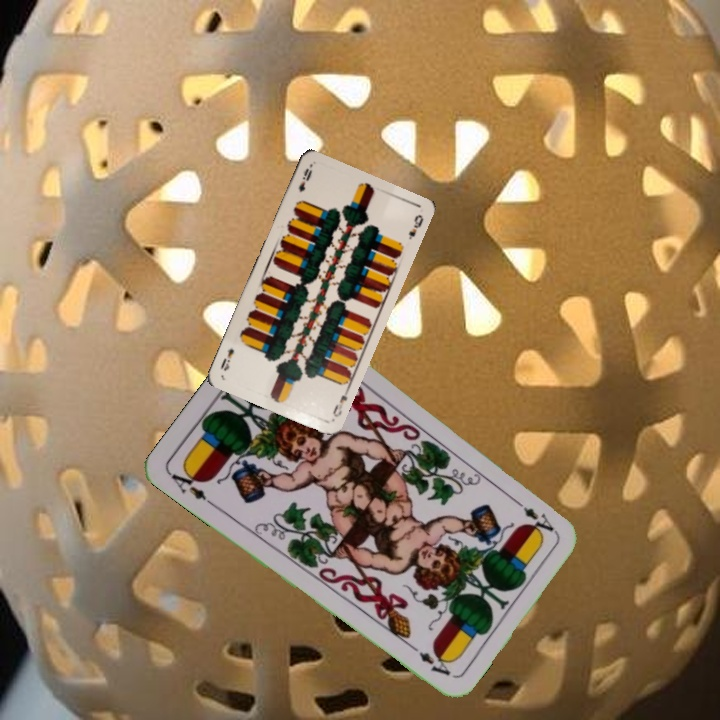E9: (329, 384, 352, 420), (294, 163, 315, 195)
EA: (165, 463, 217, 509), (508, 493, 559, 536)
